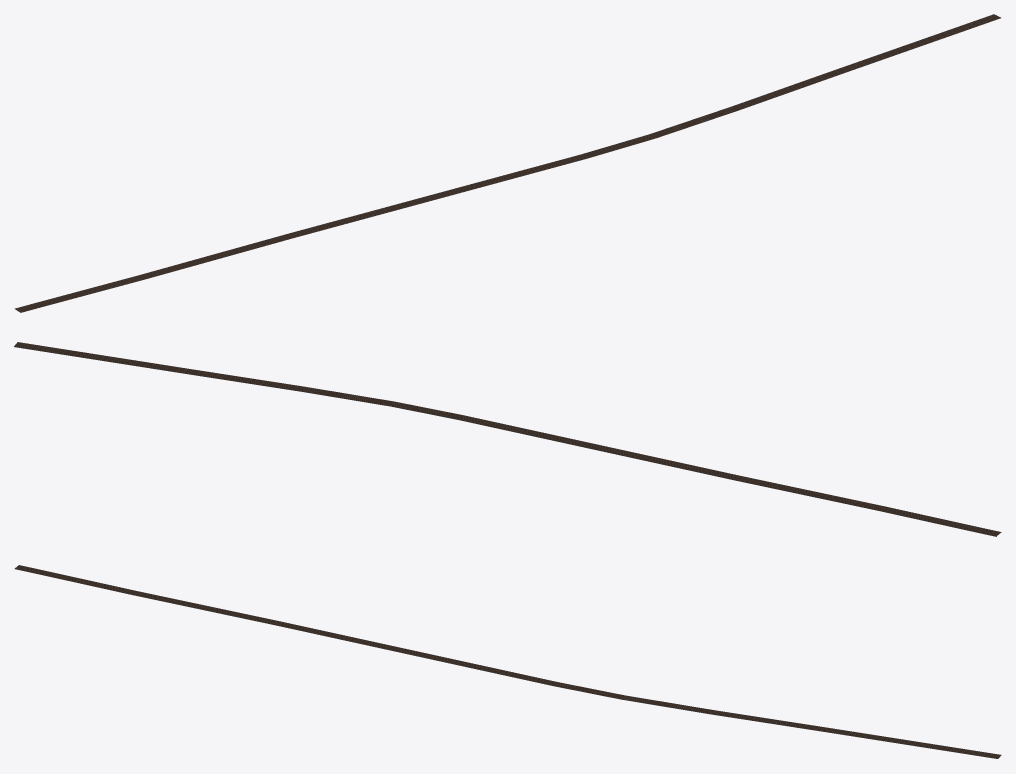
Rendered from kobe_0024.glb.
The picture shows the model from 3 angles, top to bottom: view 1: azimuth 30°, elevation 25°; view 2: azimuth 150°, elevation 25°; view 3: azimuth 330°, elevation 25°; orthographic projection. The views are drawn at different scales.
Parts seen in each view (by area): view 1: ballast_top, oxidised_rail_profiles; view 2: ballast_top, oxidised_rail_profiles, ballast_left; view 3: ballast_top, oxidised_rail_profiles.
Boxes of the visible parts, x1,y1,x2,y2 form: ballast_top: [14, 14, 1000, 312]; oxidised_rail_profiles: [15, 14, 999, 311]; ballast_top: [14, 342, 1001, 535]; oxidised_rail_profiles: [15, 342, 1000, 535]; ballast_left: [14, 346, 996, 536]; ballast_top: [14, 565, 1001, 758]; oxidised_rail_profiles: [15, 565, 1000, 758].
Bounding box in the file's own units: 751 × 0.819 × 79.38.
4 materials, 3 textured.
